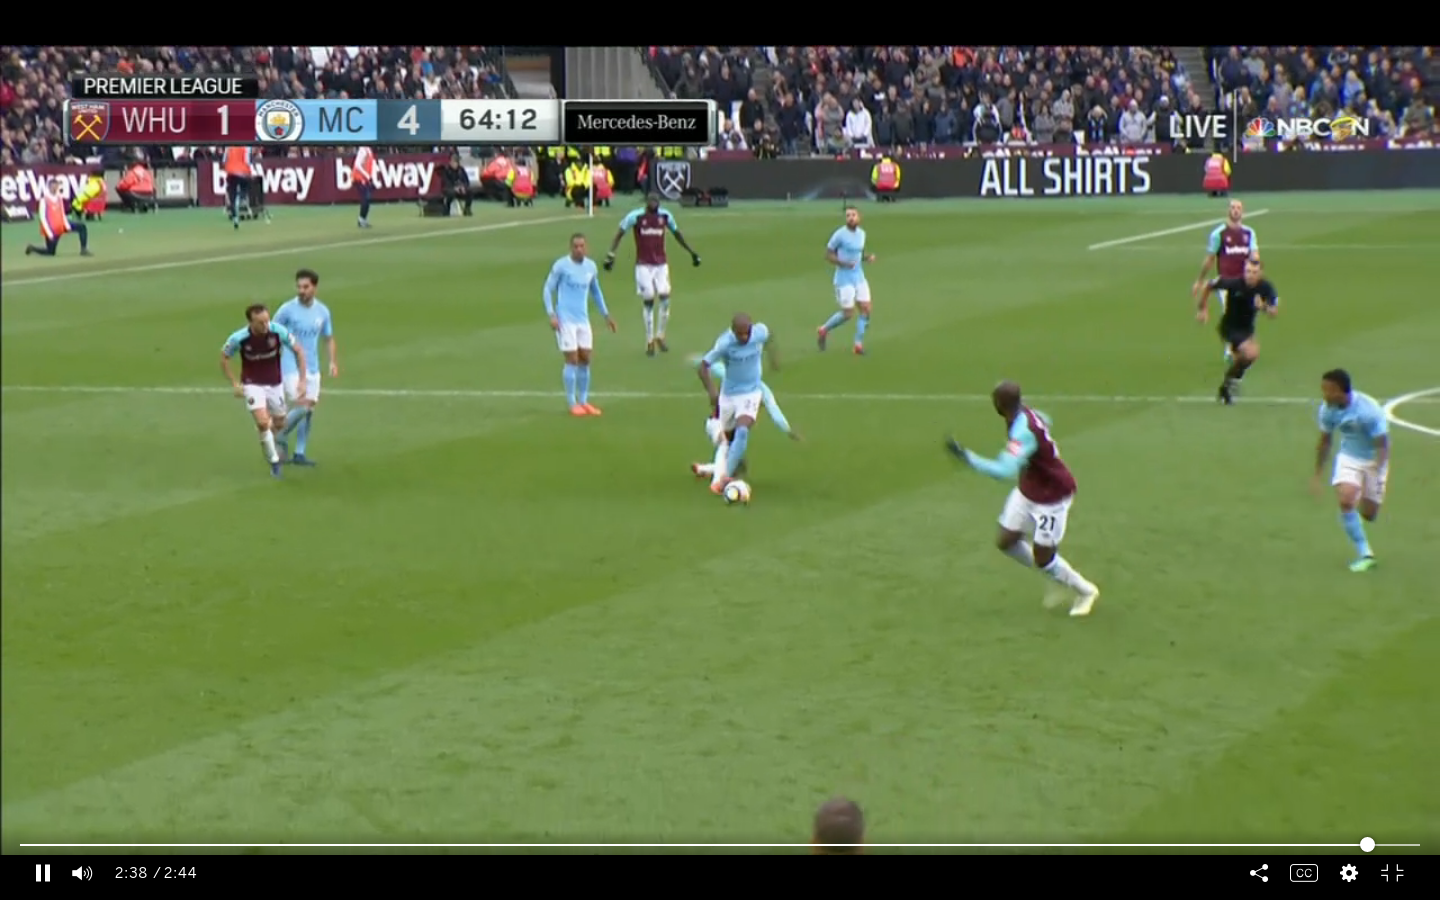referee: (1188, 260, 1282, 405)
soccer player: (942, 377, 1116, 632), (1308, 369, 1401, 583), (538, 219, 621, 422), (604, 189, 701, 356), (272, 265, 336, 472), (216, 299, 293, 468), (696, 325, 779, 479), (813, 205, 882, 360), (1204, 186, 1262, 274)
soccerball: (716, 474, 758, 511)
